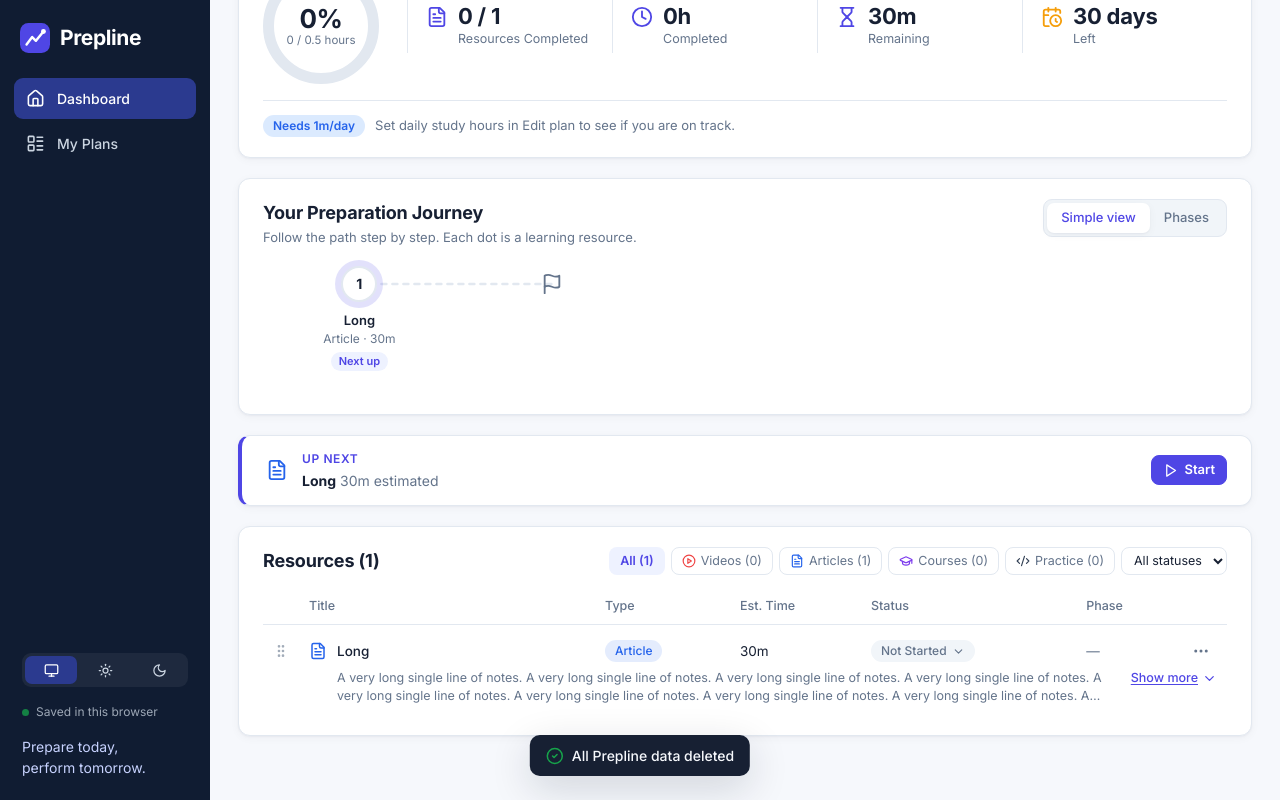
Resource notes › offers Show more again after Show less
The image size is (1280, 800).
(page scrolled)
Step 1. Click the button "Show more" → (1174, 678), box 1131,669 -> 1217,688
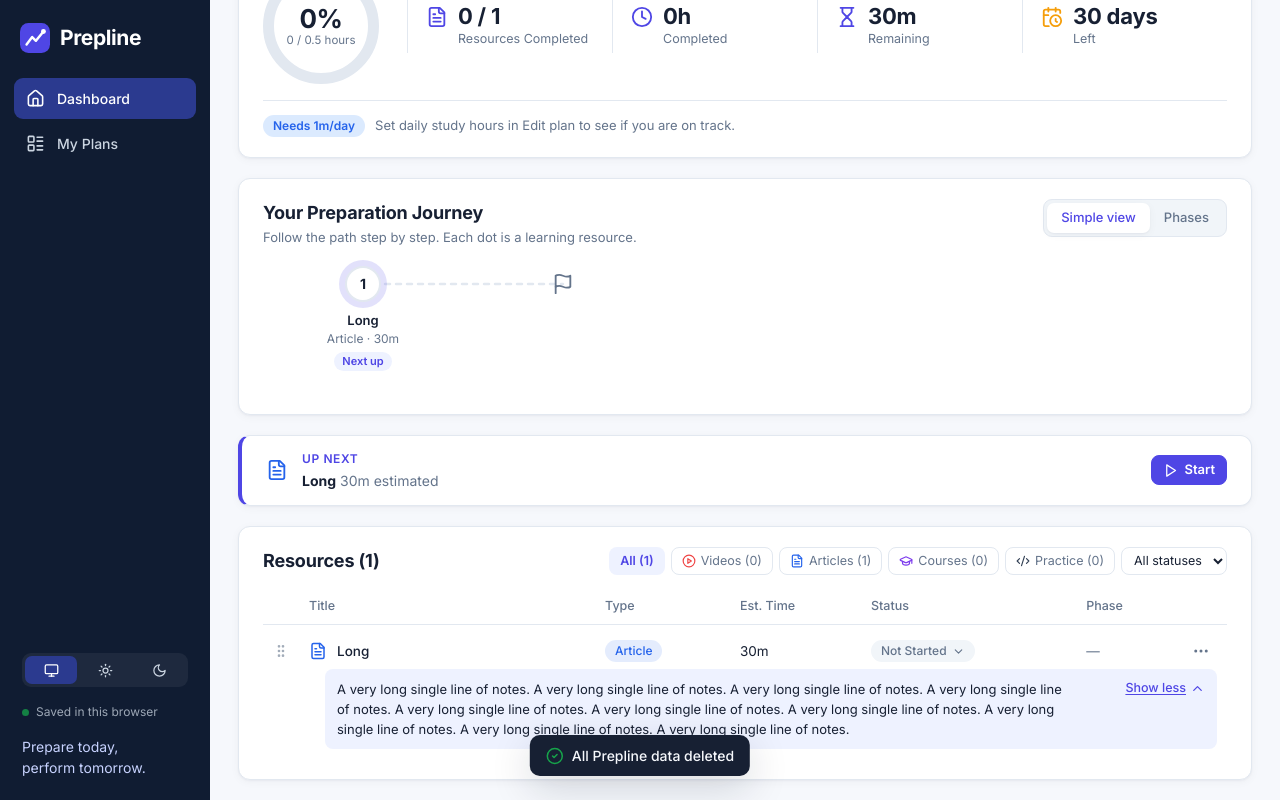
Step 2. Click the button "Show less" → (1165, 688), box 1125,679 -> 1205,698
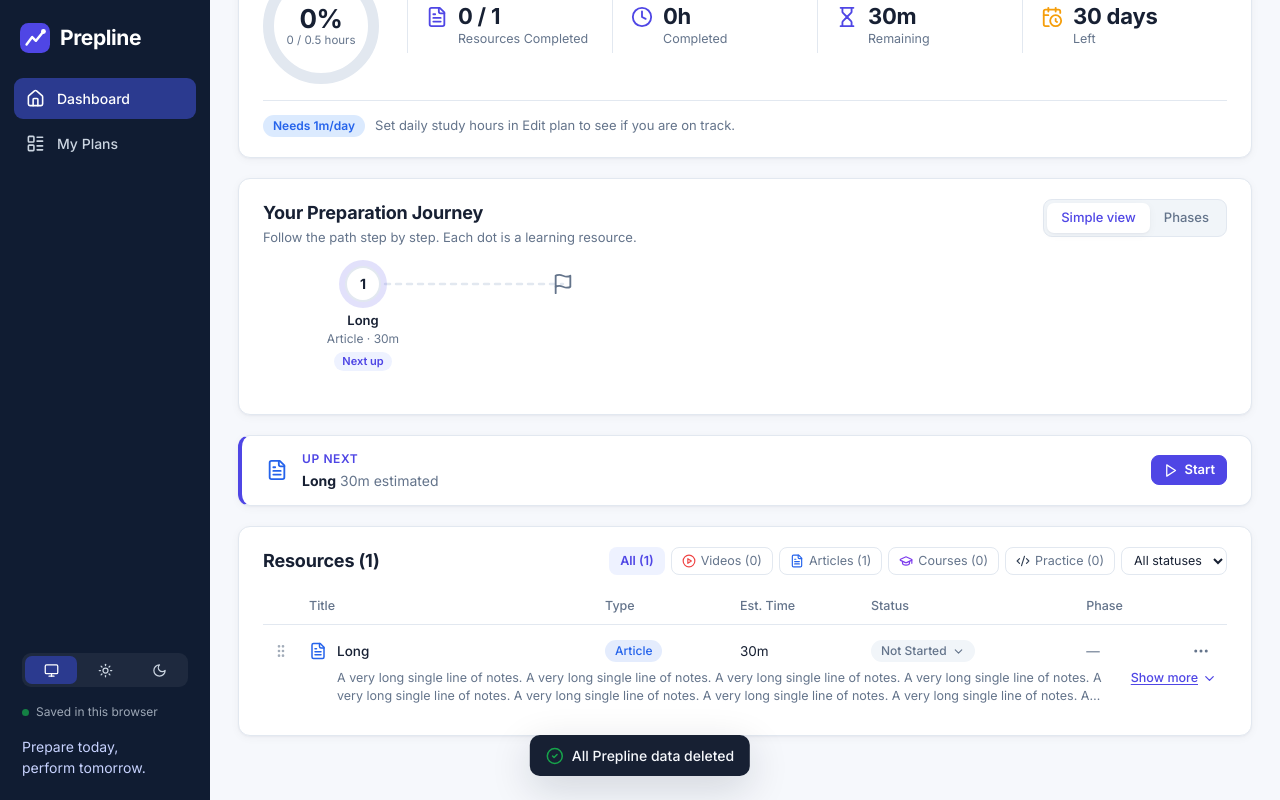
expect the button "Show more" is shown: met, box 1131,669 -> 1217,688
